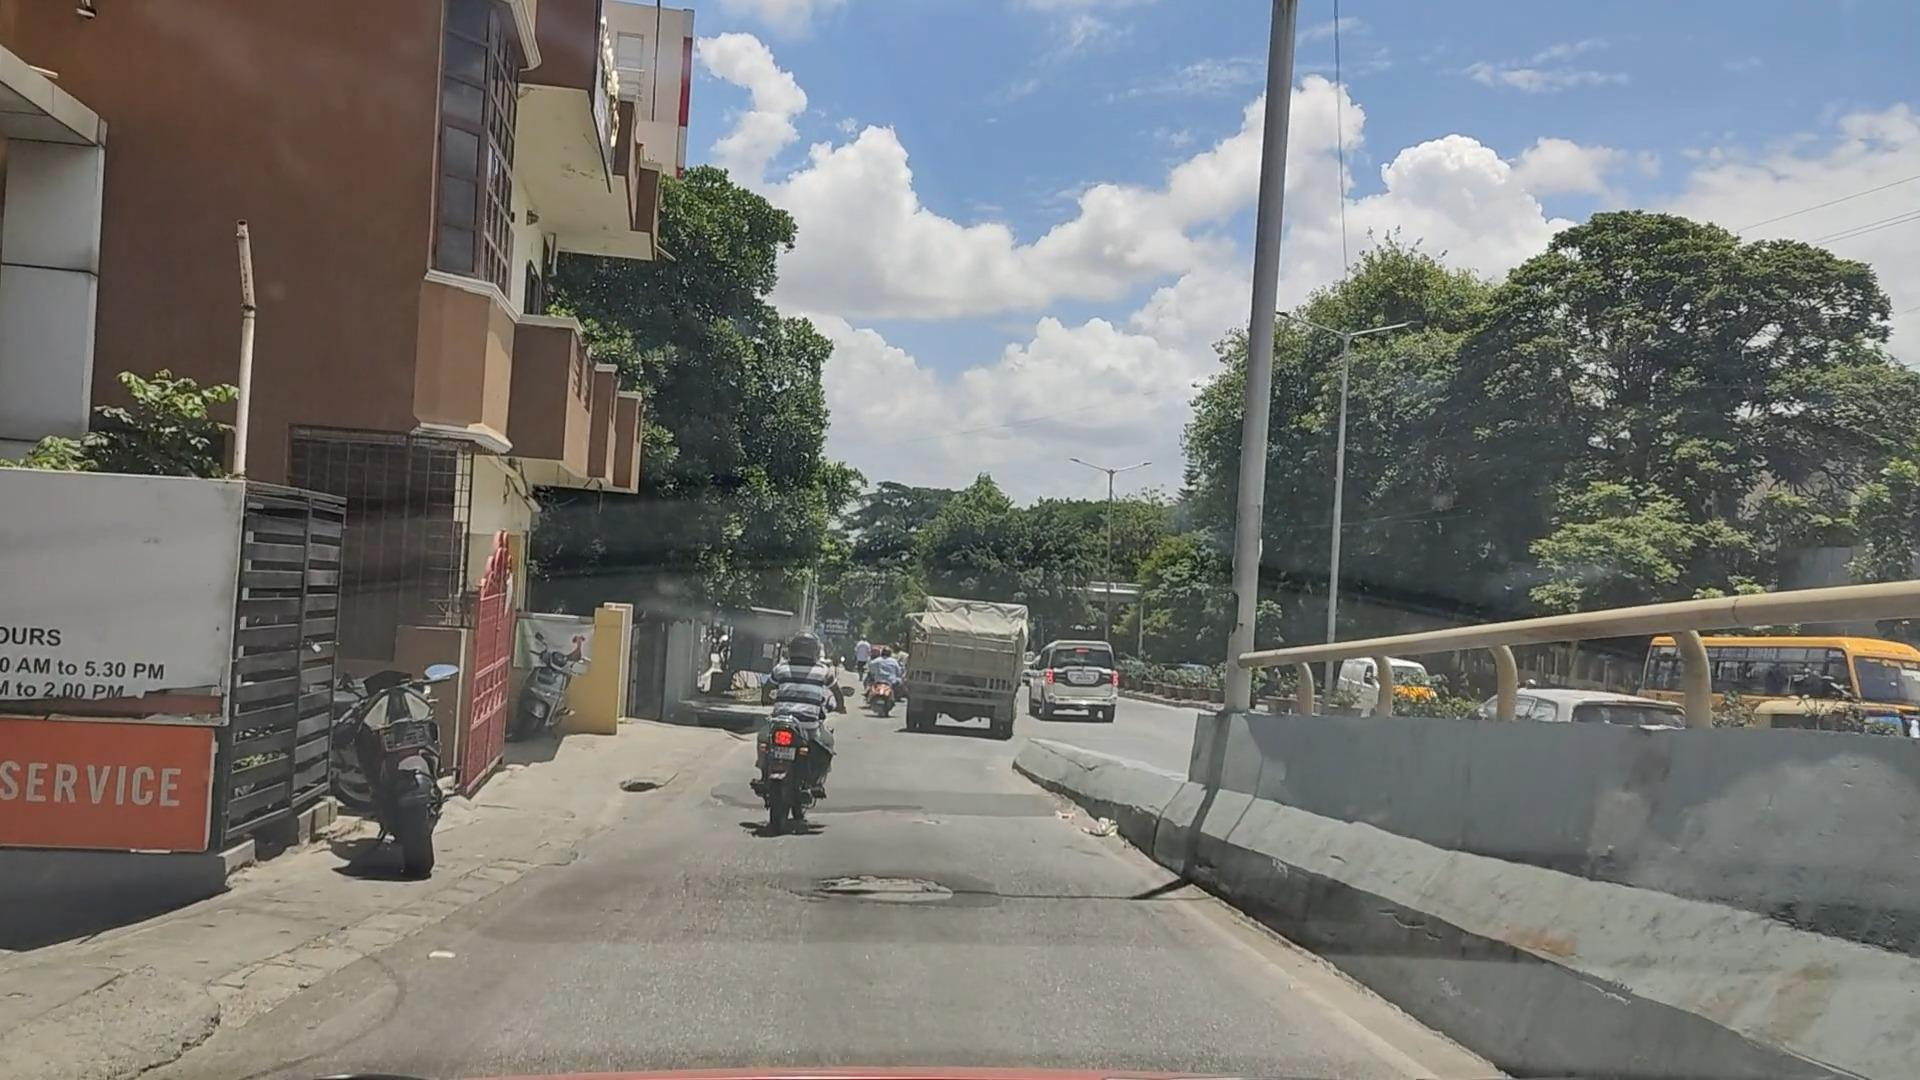HMV: (897, 589, 1039, 748)
RoadDamages: (795, 852, 1006, 924), (607, 754, 680, 814)
